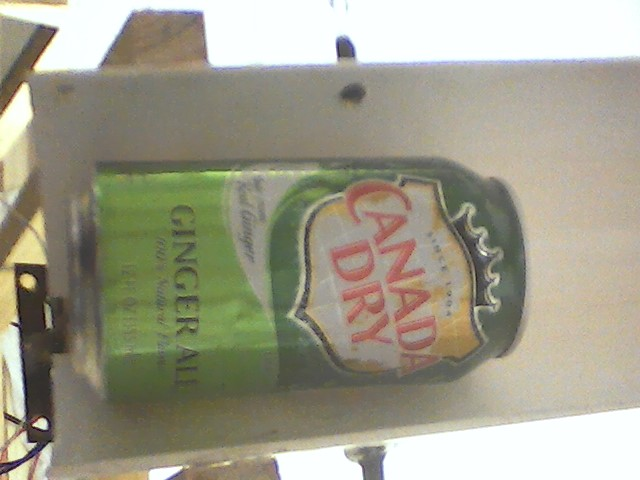lata: (62, 151, 538, 407)
